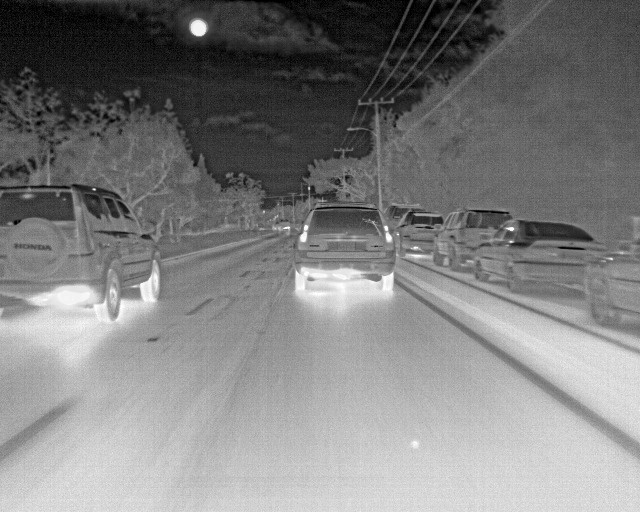vehicle: (1, 183, 159, 325), (294, 206, 397, 297), (475, 220, 598, 293), (586, 220, 640, 322), (435, 209, 514, 269), (399, 203, 446, 261)
